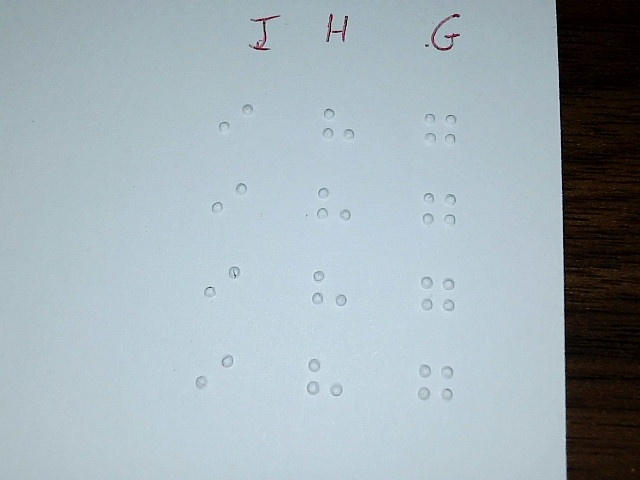G: (421, 105, 458, 161), (422, 187, 459, 243), (420, 267, 457, 323), (418, 357, 455, 413)
H: (307, 351, 344, 411), (321, 99, 358, 155), (316, 179, 353, 235), (311, 263, 348, 319)
I: (194, 346, 235, 405), (217, 94, 254, 150), (211, 174, 248, 230), (203, 258, 240, 314)
